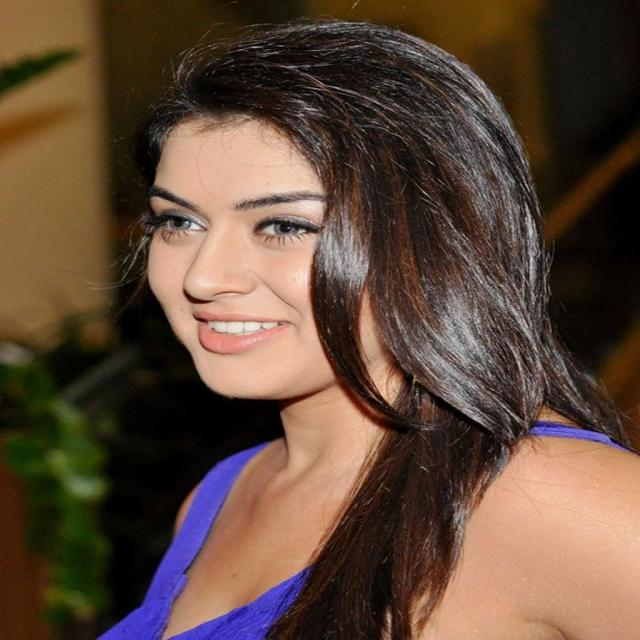Face: (122, 110, 424, 405)
